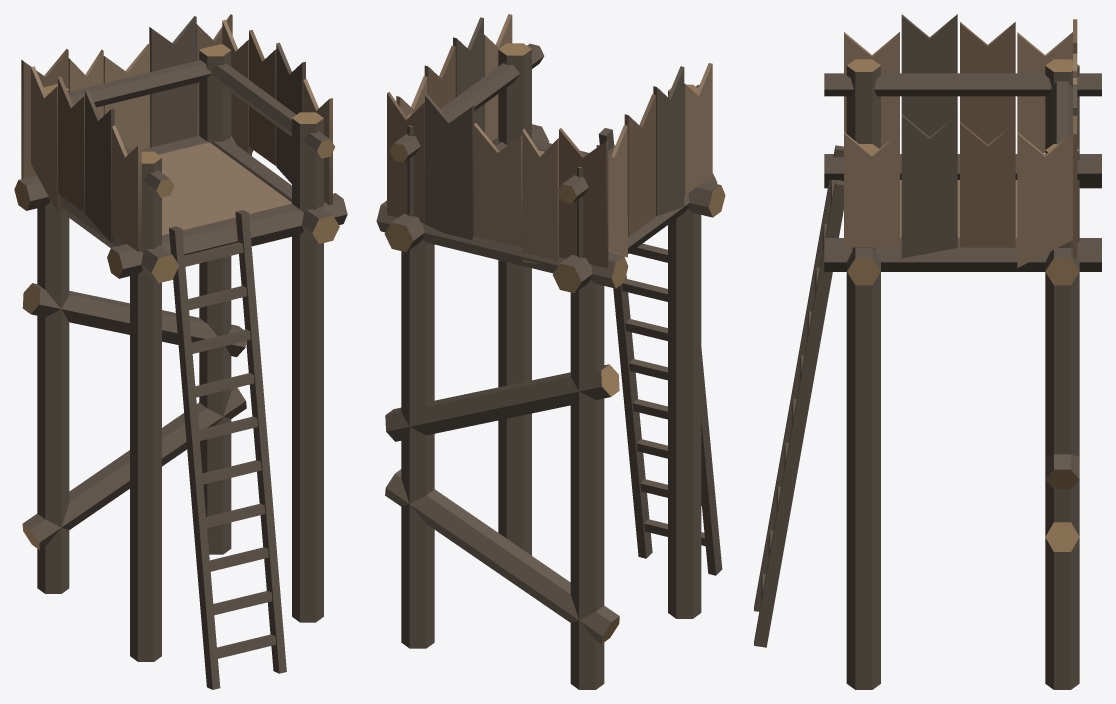
Rendered from Wood_Tower.fbx.
3 views of the same model, side by side, from view 1: azimuth 30°, elevation 25°; view 2: azimuth 150°, elevation 25°; view 3: azimuth 270°, elevation 25° (orthographic). The views are drawn at different scales.
Visible parts, largest first — view 1: pCylinder575; view 2: pCylinder575; view 3: pCylinder575.
Boxes of the visible parts, x1,y1,x2,y2 form: pCylinder575: (14,14,347,689); pCylinder575: (376,14,725,689); pCylinder575: (754,14,1101,689).
Bounding box in the file's own units: 2.75 × 6.31 × 3.44.
